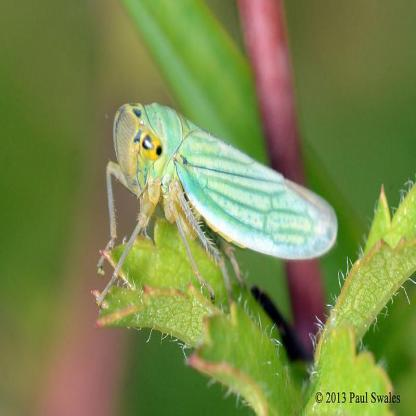Green-Leafhopper: (94, 99, 340, 310)
